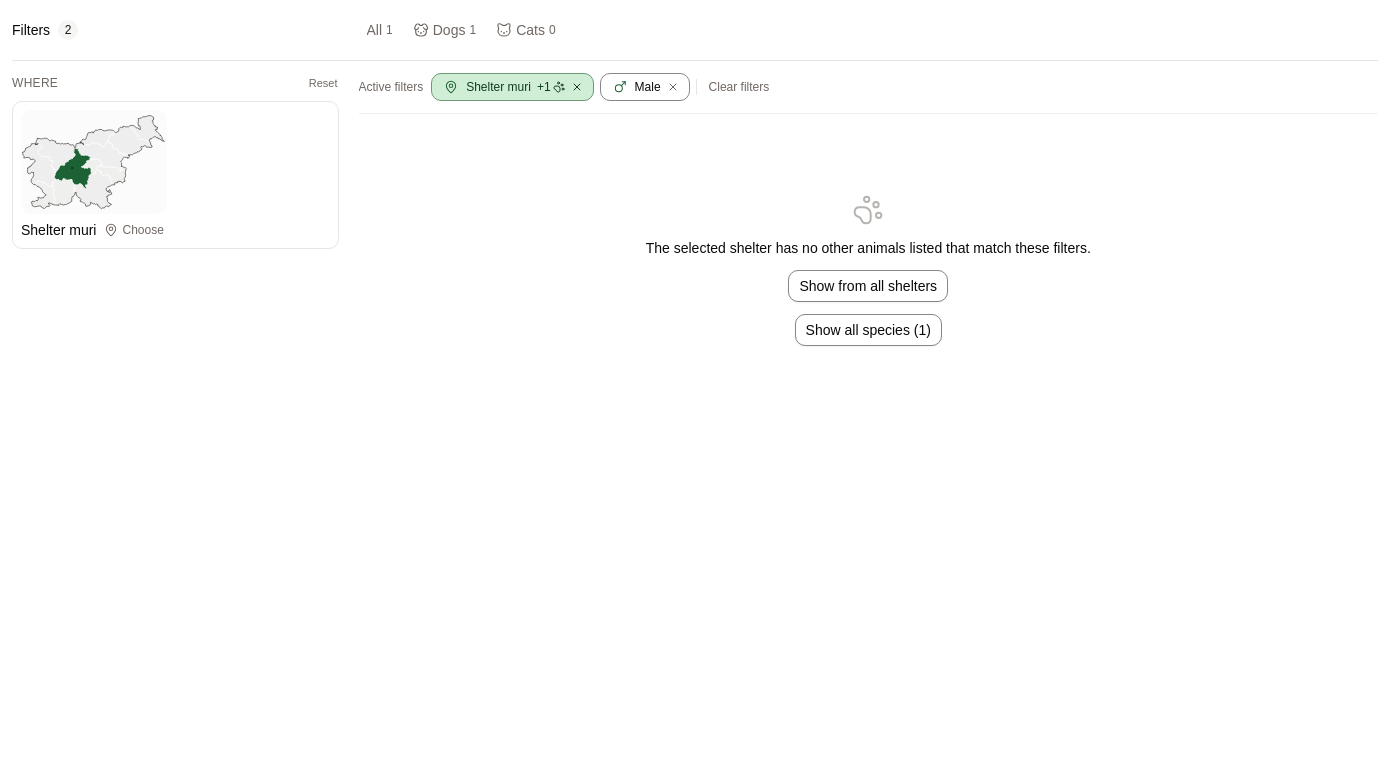
Test case: animal grid empty state › offers cross-species recovery with active chips in en
Click the button "Show all species (1)" at x=868, y=330, box [795, 314, 942, 346]
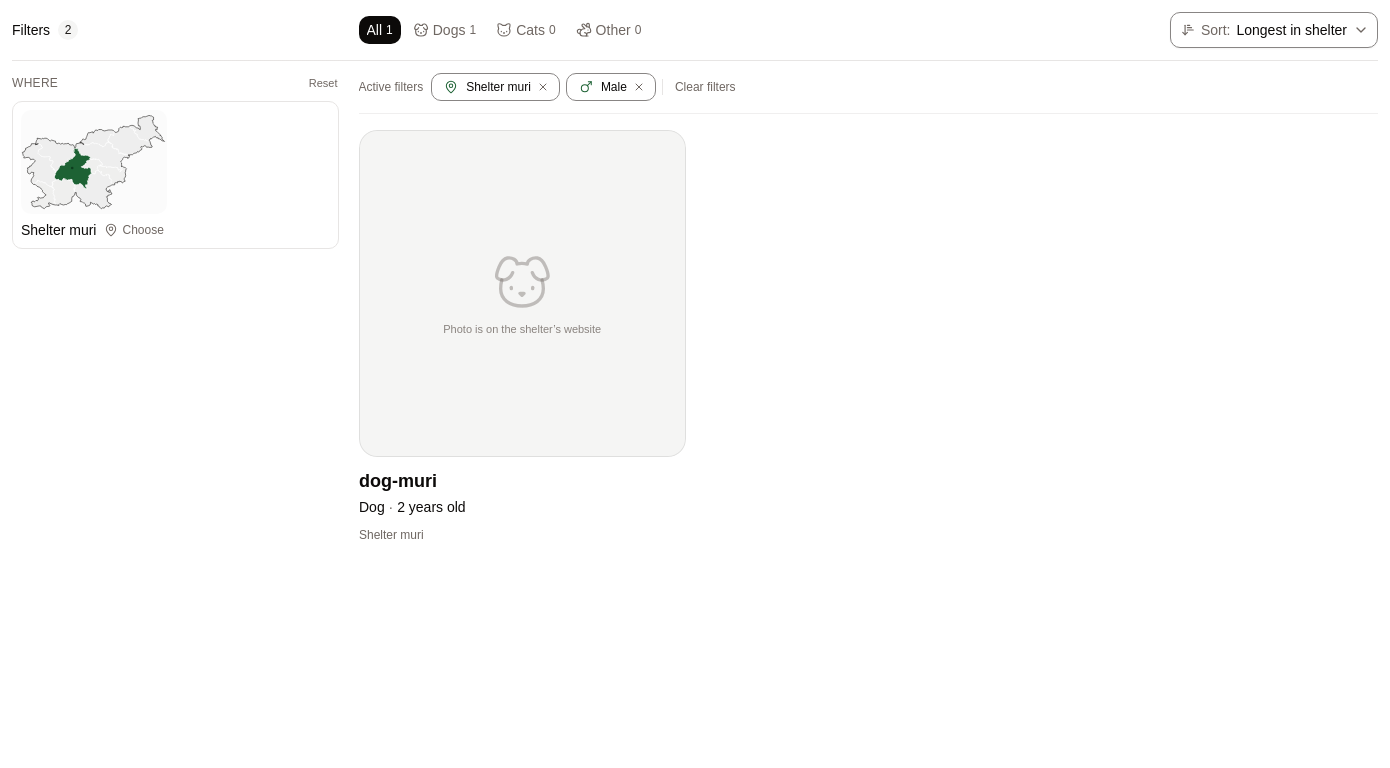
Expected: the element "dog-muri" is shown, [358, 130, 685, 554]
